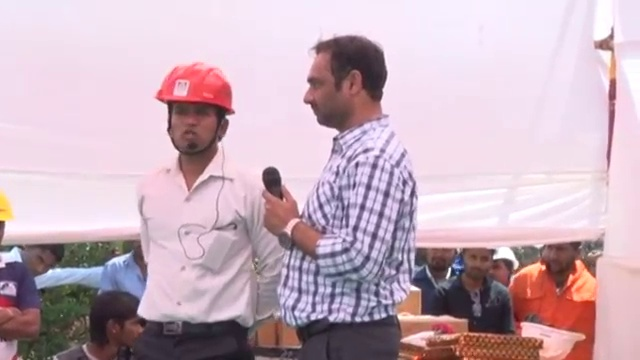helmet: (149, 63, 242, 117), (519, 318, 587, 357), (492, 247, 520, 270), (0, 190, 14, 223)
helmet_off: (303, 34, 391, 130), (85, 292, 145, 360), (15, 243, 64, 284), (543, 236, 586, 276), (462, 246, 499, 285), (425, 244, 459, 277)
helmet_on: (149, 64, 243, 172), (491, 248, 521, 290), (0, 189, 15, 262)
person: (263, 22, 438, 360), (121, 64, 279, 360), (513, 235, 601, 359), (46, 291, 159, 360), (0, 191, 42, 360), (427, 251, 515, 326), (0, 241, 107, 293)
